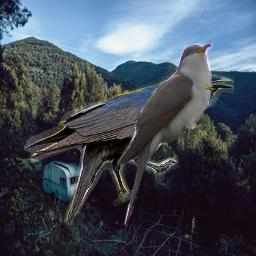Crow: (24, 71, 234, 225)
Cuckoo: (116, 43, 213, 229)
